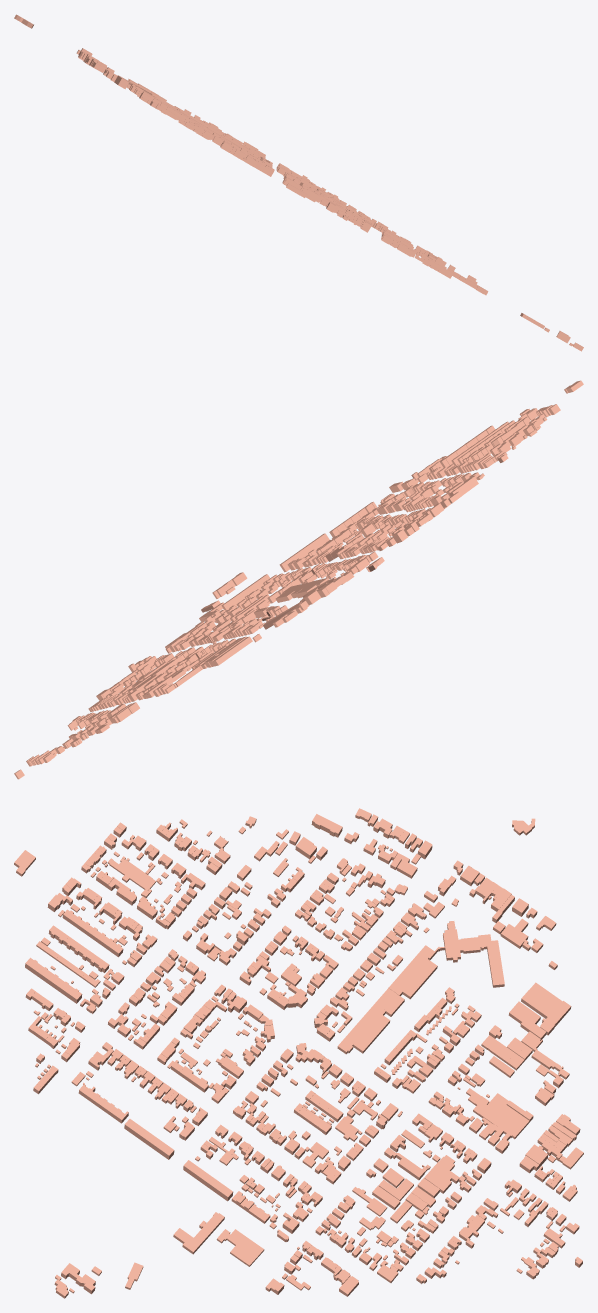
The picture shows the model from 3 angles, top to bottom: view 1: azimuth 30°, elevation 25°; view 2: azimuth 150°, elevation 25°; view 3: azimuth 270°, elevation 25°; orthographic projection. The views are drawn at different scales.
Size of the model in its own units: 511 by 384 by 645.
